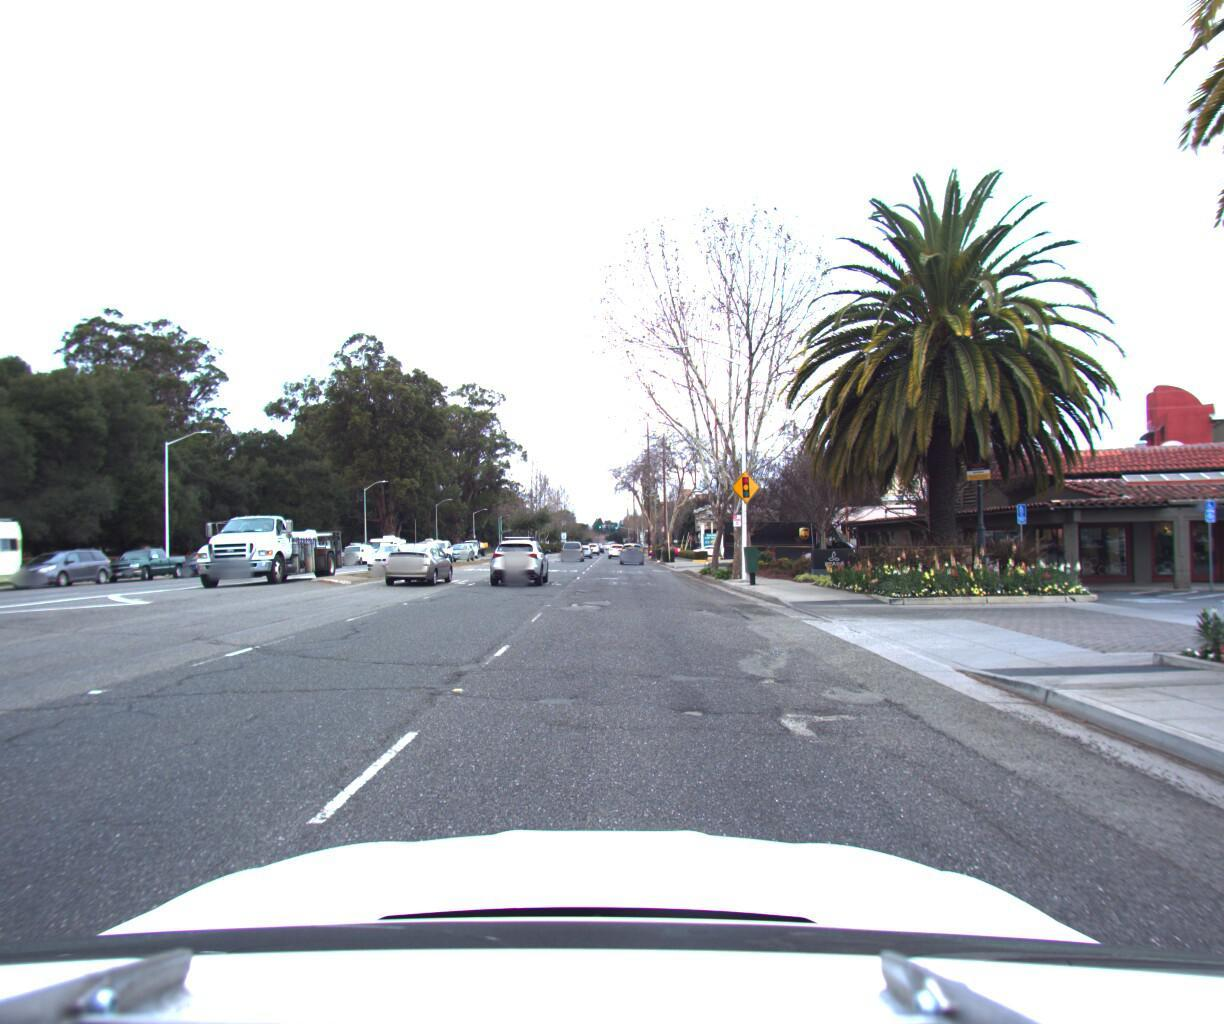car: (10, 539, 126, 585), (381, 532, 460, 578), (102, 539, 197, 576), (488, 525, 551, 577), (174, 540, 247, 571), (364, 531, 420, 562), (419, 530, 460, 556), (341, 532, 381, 557), (619, 534, 645, 556), (561, 531, 585, 552)
other_vehicle: (0, 503, 38, 594)
truck: (189, 503, 353, 581), (725, 508, 865, 557)
